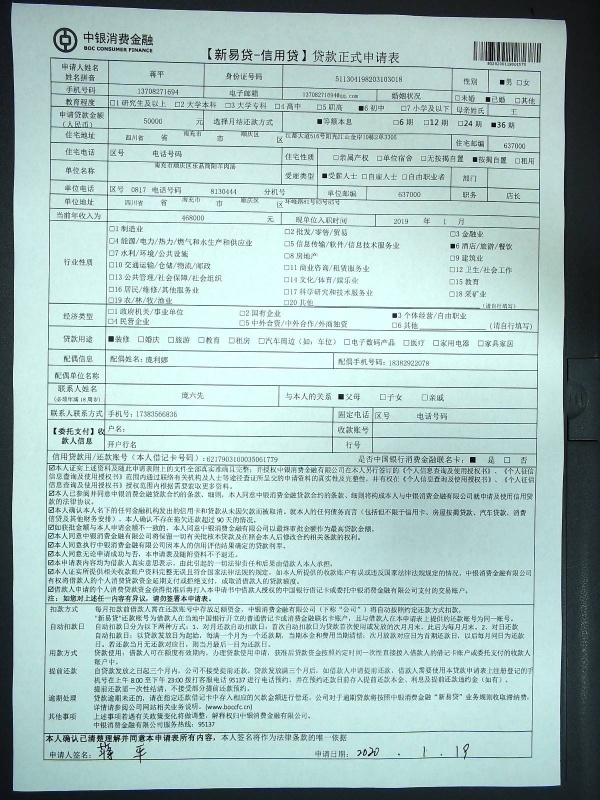text: (369, 740, 384, 762), (385, 740, 400, 762), (401, 740, 416, 762), (417, 740, 432, 762), (433, 740, 448, 762), (449, 740, 464, 762), (209, 46, 224, 66), (225, 46, 240, 66), (241, 46, 256, 66), (257, 46, 272, 66), (273, 46, 288, 66), (289, 46, 304, 66), (305, 46, 320, 66), (321, 46, 336, 66), (337, 46, 352, 66), (353, 46, 368, 66), (369, 46, 384, 66), (385, 46, 400, 66), (97, 743, 112, 763), (113, 743, 128, 763), (129, 743, 144, 763), (356, 740, 368, 762), (97, 31, 112, 48), (113, 31, 128, 48), (129, 31, 144, 48), (337, 152, 352, 168), (353, 152, 368, 168), (369, 152, 384, 168), (385, 152, 400, 168), (401, 152, 416, 168), (417, 152, 432, 168), (433, 152, 448, 168), (449, 152, 464, 168), (465, 152, 480, 168), (481, 152, 496, 168), (497, 152, 512, 168), (513, 152, 528, 168), (113, 334, 128, 350), (129, 334, 144, 350), (145, 334, 160, 350), (161, 334, 176, 350), (177, 334, 192, 350), (193, 334, 208, 350), (209, 334, 224, 350), (225, 334, 240, 350), (241, 334, 256, 350), (257, 334, 272, 350), (273, 334, 288, 350), (289, 334, 304, 350), (305, 334, 320, 350), (321, 334, 336, 350), (337, 334, 352, 350), (353, 334, 368, 350), (369, 334, 384, 350), (385, 334, 400, 350), (401, 334, 416, 350), (417, 334, 432, 350), (433, 334, 448, 350), (449, 334, 464, 350), (465, 334, 480, 350), (481, 334, 496, 350), (497, 334, 512, 350), (113, 99, 128, 114), (129, 99, 144, 114), (145, 99, 160, 114), (161, 99, 176, 114), (177, 99, 192, 114), (193, 99, 208, 114), (209, 99, 224, 114), (225, 99, 240, 114), (241, 99, 256, 114), (257, 99, 272, 114), (273, 99, 288, 114), (289, 99, 304, 114), (305, 99, 320, 114), (321, 99, 336, 114), (337, 99, 352, 114), (353, 99, 368, 114), (369, 99, 384, 114), (385, 99, 400, 114), (401, 99, 416, 114), (417, 99, 432, 114), (433, 99, 448, 114), (401, 116, 416, 131), (417, 116, 432, 131), (433, 116, 448, 131), (449, 116, 464, 131), (465, 116, 480, 131), (481, 116, 496, 131), (497, 116, 512, 131), (289, 237, 304, 252), (305, 237, 320, 252), (321, 237, 336, 252), (337, 237, 352, 252), (353, 237, 368, 252), (369, 237, 384, 252), (385, 237, 400, 252), (83, 31, 96, 48), (145, 31, 158, 48), (113, 272, 128, 286), (129, 272, 144, 286), (145, 272, 160, 286), (161, 272, 176, 286), (177, 272, 192, 286), (193, 272, 208, 286), (209, 272, 224, 286), (65, 382, 80, 396), (81, 382, 96, 396), (289, 391, 304, 405), (305, 391, 320, 405), (321, 391, 336, 405), (337, 391, 352, 405), (353, 391, 368, 405), (369, 391, 384, 405), (385, 391, 400, 405), (401, 391, 416, 405), (417, 391, 432, 405), (433, 391, 448, 405), (65, 452, 80, 466), (81, 452, 96, 466), (97, 452, 112, 466), (113, 452, 128, 466), (129, 452, 144, 466), (145, 452, 160, 466), (161, 452, 176, 466), (177, 452, 192, 466), (193, 452, 208, 466), (209, 452, 224, 466), (225, 452, 240, 466), (241, 452, 256, 466), (257, 452, 272, 466), (241, 237, 257, 250), (465, 740, 474, 762), (65, 71, 80, 84), (81, 71, 96, 84), (513, 76, 528, 89), (465, 93, 480, 106), (481, 93, 496, 106), (497, 93, 512, 106), (513, 93, 528, 106), (113, 184, 128, 197), (129, 184, 144, 197), (145, 184, 160, 197), (161, 184, 176, 197), (113, 237, 128, 250), (129, 237, 144, 250), (145, 237, 160, 250), (161, 237, 176, 250), (177, 237, 192, 250), (193, 237, 208, 250), (209, 237, 224, 250), (225, 237, 240, 250), (113, 284, 128, 297), (129, 284, 144, 297), (145, 284, 160, 297), (161, 284, 176, 297), (177, 284, 192, 297), (289, 262, 304, 275), (305, 262, 320, 275), (321, 262, 336, 275), (337, 262, 352, 275), (353, 262, 368, 275), (289, 274, 304, 287), (305, 274, 320, 287), (321, 274, 336, 287), (337, 274, 352, 287), (465, 228, 480, 241), (449, 287, 464, 300), (465, 287, 480, 300), (65, 370, 80, 383), (81, 370, 96, 383), (49, 489, 64, 502), (65, 489, 80, 502), (81, 489, 96, 502), (97, 489, 112, 502), (113, 489, 128, 502), (129, 489, 144, 502), (145, 489, 160, 502), (161, 489, 176, 502), (177, 489, 192, 502), (193, 489, 208, 502), (209, 489, 224, 502), (225, 489, 240, 502), (241, 489, 256, 502), (257, 489, 272, 502), (273, 489, 288, 502), (289, 489, 304, 502), (305, 489, 320, 502), (321, 489, 336, 502), (337, 489, 352, 502), (353, 489, 368, 502), (369, 489, 384, 502), (385, 489, 400, 502), (401, 489, 416, 502), (417, 489, 432, 502), (433, 489, 448, 502), (449, 489, 464, 502), (465, 489, 480, 502), (481, 489, 496, 502), (497, 489, 512, 502), (513, 489, 528, 502), (49, 505, 64, 518), (65, 505, 80, 518), (81, 505, 96, 518), (97, 505, 112, 518), (113, 505, 128, 518), (129, 505, 144, 518), (145, 505, 160, 518), (161, 505, 176, 518), (177, 505, 192, 518), (193, 505, 208, 518), (209, 505, 224, 518), (225, 505, 240, 518), (241, 505, 256, 518), (257, 505, 272, 518), (273, 505, 288, 518), (289, 505, 304, 518), (305, 505, 320, 518), (321, 505, 336, 518), (337, 505, 352, 518), (353, 505, 368, 518), (369, 505, 384, 518), (385, 505, 400, 518), (401, 505, 416, 518), (417, 505, 432, 518), (433, 505, 448, 518), (449, 505, 464, 518), (465, 505, 480, 518), (481, 505, 496, 518), (497, 505, 512, 518), (513, 505, 528, 518), (65, 621, 80, 634), (49, 693, 64, 706), (65, 693, 80, 706), (49, 711, 64, 724), (65, 711, 80, 724), (321, 749, 336, 762), (337, 749, 352, 762), (81, 256, 97, 268), (417, 357, 433, 369), (450, 228, 464, 241), (97, 44, 112, 56), (113, 44, 128, 56), (129, 44, 144, 56), (65, 62, 80, 74), (81, 62, 96, 74), (241, 88, 256, 100), (129, 132, 144, 144), (465, 138, 480, 150), (513, 141, 528, 153), (65, 147, 80, 159), (81, 147, 96, 159), (65, 165, 80, 177), (81, 165, 96, 177), (337, 188, 352, 200), (65, 256, 80, 268), (113, 248, 128, 260), (129, 248, 144, 260), (145, 248, 160, 260), (161, 248, 176, 260), (177, 248, 192, 260), (289, 287, 304, 299), (305, 287, 320, 299), (321, 287, 336, 299), (337, 287, 352, 299), (353, 287, 368, 299), (449, 253, 464, 265), (465, 253, 480, 265), (449, 276, 464, 288), (465, 276, 480, 288), (65, 312, 80, 324), (81, 312, 96, 324), (241, 319, 256, 331), (257, 319, 272, 331), (273, 319, 288, 331), (289, 319, 304, 331), (305, 319, 320, 331), (321, 319, 336, 331), (401, 320, 416, 332), (497, 321, 512, 333), (513, 321, 528, 333), (113, 354, 128, 366), (129, 354, 144, 366), (145, 354, 160, 366), (353, 357, 368, 369), (369, 357, 384, 369), (385, 357, 400, 369), (401, 357, 416, 369), (65, 408, 80, 420), (81, 408, 96, 420), (97, 408, 112, 420), (113, 408, 128, 420), (129, 408, 144, 420), (145, 408, 160, 420), (161, 408, 176, 420), (353, 410, 368, 422), (369, 410, 384, 422), (417, 411, 432, 423), (433, 411, 448, 423), (353, 425, 368, 437), (65, 425, 80, 437), (81, 425, 96, 437), (65, 436, 80, 448), (81, 436, 96, 448), (113, 438, 128, 450), (369, 454, 384, 466), (385, 454, 400, 466), (401, 454, 416, 466), (417, 454, 432, 466), (433, 454, 448, 466), (449, 454, 464, 466), (465, 454, 480, 466), (481, 454, 496, 466), (497, 454, 512, 466), (513, 454, 528, 466), (49, 463, 64, 475), (65, 463, 80, 475), (81, 463, 96, 475), (97, 463, 112, 475), (113, 463, 128, 475), (129, 463, 144, 475), (145, 463, 160, 475), (161, 463, 176, 475), (177, 463, 192, 475), (193, 463, 208, 475), (209, 463, 224, 475), (225, 463, 240, 475), (241, 463, 256, 475), (257, 463, 272, 475), (273, 463, 288, 475), (289, 463, 304, 475), (305, 463, 320, 475), (321, 463, 336, 475), (337, 463, 352, 475), (353, 463, 368, 475), (369, 463, 384, 475), (385, 463, 400, 475), (401, 463, 416, 475), (417, 463, 432, 475), (433, 463, 448, 475), (449, 463, 464, 475), (465, 463, 480, 475), (481, 463, 496, 475), (497, 463, 512, 475), (513, 463, 528, 475), (49, 473, 64, 485), (65, 473, 80, 485), (81, 473, 96, 485), (97, 473, 112, 485), (113, 473, 128, 485), (129, 473, 144, 485), (145, 473, 160, 485), (161, 473, 176, 485), (177, 473, 192, 485), (193, 473, 208, 485), (209, 473, 224, 485), (225, 473, 240, 485), (241, 473, 256, 485), (257, 473, 272, 485), (273, 473, 288, 485), (289, 473, 304, 485), (305, 473, 320, 485), (321, 473, 336, 485), (337, 473, 352, 485), (353, 473, 368, 485), (369, 473, 384, 485), (385, 473, 400, 485), (401, 473, 416, 485), (417, 473, 432, 485), (433, 473, 448, 485), (449, 473, 464, 485), (465, 473, 480, 485), (481, 473, 496, 485), (497, 473, 512, 485), (513, 473, 528, 485), (49, 531, 64, 543), (65, 531, 80, 543), (81, 531, 96, 543), (97, 531, 112, 543), (113, 531, 128, 543), (129, 531, 144, 543), (145, 531, 160, 543), (161, 531, 176, 543), (177, 531, 192, 543), (193, 531, 208, 543), (209, 531, 224, 543), (225, 531, 240, 543), (241, 531, 256, 543), (257, 531, 272, 543), (273, 531, 288, 543), (289, 531, 304, 543), (305, 531, 320, 543), (321, 531, 336, 543), (337, 531, 352, 543), (49, 567, 64, 579), (65, 567, 80, 579), (81, 567, 96, 579), (97, 567, 112, 579), (113, 567, 128, 579), (129, 567, 144, 579), (145, 567, 160, 579), (161, 567, 176, 579), (177, 567, 192, 579), (193, 567, 208, 579), (209, 567, 224, 579), (225, 567, 240, 579), (241, 567, 256, 579), (257, 567, 272, 579), (273, 567, 288, 579), (289, 567, 304, 579), (305, 567, 320, 579), (321, 567, 336, 579), (337, 567, 352, 579), (353, 567, 368, 579), (369, 567, 384, 579), (385, 567, 400, 579), (401, 567, 416, 579), (417, 567, 432, 579), (433, 567, 448, 579), (449, 567, 464, 579), (465, 567, 480, 579), (481, 567, 496, 579), (497, 567, 512, 579), (513, 567, 528, 579), (49, 594, 64, 606), (65, 594, 80, 606), (81, 594, 96, 606), (97, 594, 112, 606), (113, 594, 128, 606), (129, 594, 144, 606), (145, 594, 160, 606), (161, 594, 176, 606), (177, 594, 192, 606), (193, 594, 208, 606), (49, 750, 64, 762), (65, 750, 80, 762), (385, 131, 401, 142), (433, 171, 449, 182), (81, 197, 97, 208), (81, 354, 97, 365), (289, 576, 305, 587), (65, 666, 81, 677), (499, 76, 512, 89), (51, 621, 64, 634), (113, 147, 127, 159), (337, 319, 351, 331), (338, 425, 352, 437), (52, 452, 64, 466), (353, 531, 367, 543), (241, 71, 256, 82), (337, 74, 352, 85), (353, 74, 368, 85), (369, 74, 384, 85), (385, 74, 400, 85), (65, 84, 80, 95), (81, 84, 96, 95), (145, 87, 160, 98), (161, 87, 176, 98), (401, 91, 416, 102), (65, 98, 80, 109), (81, 98, 96, 109), (65, 119, 80, 130), (81, 119, 96, 130), (225, 117, 240, 128), (241, 117, 256, 128), (257, 117, 272, 128), (321, 117, 336, 128), (337, 117, 352, 128), (65, 130, 80, 141), (81, 130, 96, 141), (289, 131, 304, 142), (305, 131, 320, 142), (321, 131, 336, 142), (337, 131, 352, 142), (353, 131, 368, 142), (369, 131, 384, 142), (161, 161, 176, 172), (177, 161, 192, 172), (193, 161, 208, 172), (209, 161, 224, 172), (225, 161, 240, 172), (289, 171, 304, 182), (305, 171, 320, 182), (321, 171, 336, 182), (337, 171, 352, 182), (353, 171, 368, 182), (369, 171, 384, 182), (385, 171, 400, 182), (401, 171, 416, 182), (417, 171, 432, 182), (465, 173, 480, 184), (65, 183, 80, 194), (81, 183, 96, 194), (209, 187, 224, 198), (225, 187, 240, 198), (465, 190, 480, 201), (65, 197, 80, 208), (193, 214, 208, 225), (305, 215, 320, 226), (321, 215, 336, 226), (401, 217, 416, 228), (417, 217, 432, 228), (433, 217, 448, 228), (449, 217, 464, 228), (113, 261, 128, 272), (129, 261, 144, 272), (145, 261, 160, 272), (161, 261, 176, 272), (177, 261, 192, 272), (193, 261, 208, 272), (113, 295, 128, 306), (129, 295, 144, 306), (145, 295, 160, 306), (161, 295, 176, 306), (289, 226, 304, 237), (305, 226, 320, 237), (321, 226, 336, 237), (337, 226, 352, 237), (289, 251, 304, 262), (305, 251, 320, 262), (449, 242, 464, 253), (465, 242, 480, 253), (481, 242, 496, 253), (497, 242, 512, 253), (449, 265, 464, 276), (465, 265, 480, 276), (481, 265, 496, 276), (497, 265, 512, 276), (113, 308, 128, 319), (129, 308, 144, 319), (145, 308, 160, 319), (161, 308, 176, 319), (241, 308, 256, 319), (257, 308, 272, 319), (65, 333, 80, 344), (81, 333, 96, 344), (65, 354, 80, 365), (65, 394, 80, 405), (81, 394, 96, 405), (113, 423, 128, 434), (49, 514, 64, 525), (65, 514, 80, 525), (81, 514, 96, 525), (97, 514, 112, 525), (113, 514, 128, 525), (129, 514, 144, 525), (145, 514, 160, 525), (161, 514, 176, 525), (177, 514, 192, 525), (193, 514, 208, 525), (209, 514, 224, 525), (225, 514, 240, 525), (241, 514, 256, 525), (49, 523, 64, 534), (65, 523, 80, 534), (81, 523, 96, 534), (97, 523, 112, 534), (113, 523, 128, 534), (129, 523, 144, 534), (145, 523, 160, 534), (161, 523, 176, 534), (177, 523, 192, 534), (193, 523, 208, 534), (209, 523, 224, 534), (225, 523, 240, 534), (241, 523, 256, 534), (257, 523, 272, 534), (273, 523, 288, 534), (289, 523, 304, 534), (305, 523, 320, 534), (321, 523, 336, 534), (337, 523, 352, 534), (353, 523, 368, 534), (49, 540, 64, 551), (65, 540, 80, 551), (81, 540, 96, 551), (97, 540, 112, 551), (113, 540, 128, 551), (129, 540, 144, 551), (145, 540, 160, 551), (161, 540, 176, 551), (177, 540, 192, 551), (193, 540, 208, 551), (209, 540, 224, 551), (225, 540, 240, 551), (241, 540, 256, 551), (257, 540, 272, 551), (273, 540, 288, 551), (49, 558, 64, 569), (65, 558, 80, 569), (81, 558, 96, 569), (97, 558, 112, 569), (113, 558, 128, 569), (129, 558, 144, 569), (145, 558, 160, 569), (161, 558, 176, 569), (177, 558, 192, 569), (193, 558, 208, 569), (209, 558, 224, 569), (225, 558, 240, 569), (241, 558, 256, 569), (257, 558, 272, 569), (273, 558, 288, 569), (289, 558, 304, 569), (305, 558, 320, 569), (321, 558, 336, 569), (49, 576, 64, 587), (65, 576, 80, 587), (81, 576, 96, 587), (97, 576, 112, 587), (113, 576, 128, 587), (129, 576, 144, 587), (145, 576, 160, 587), (161, 576, 176, 587), (177, 576, 192, 587), (193, 576, 208, 587), (209, 576, 224, 587), (225, 576, 240, 587), (241, 576, 256, 587), (257, 576, 272, 587), (273, 576, 288, 587), (49, 585, 64, 596), (65, 585, 80, 596), (81, 585, 96, 596), (97, 585, 112, 596), (113, 585, 128, 596), (129, 585, 144, 596), (145, 585, 160, 596), (161, 585, 176, 596), (177, 585, 192, 596), (193, 585, 208, 596), (209, 585, 224, 596), (225, 585, 240, 596), (241, 585, 256, 596), (257, 585, 272, 596), (273, 585, 288, 596), (289, 585, 304, 596), (305, 585, 320, 596), (321, 585, 336, 596), (337, 585, 352, 596), (353, 585, 368, 596), (369, 585, 384, 596), (385, 585, 400, 596), (401, 585, 416, 596), (417, 585, 432, 596), (433, 585, 448, 596), (449, 585, 464, 596), (65, 648, 80, 659), (49, 666, 64, 677), (97, 605, 112, 616), (113, 605, 128, 616), (129, 605, 144, 616), (145, 605, 160, 616), (161, 605, 176, 616), (177, 605, 192, 616), (193, 605, 208, 616), (209, 605, 224, 616), (225, 605, 240, 616), (241, 605, 256, 616), (257, 605, 272, 616), (273, 605, 288, 616), (289, 605, 304, 616), (305, 605, 320, 616), (321, 605, 336, 616), (337, 605, 352, 616), (353, 605, 368, 616), (369, 605, 384, 616), (385, 605, 400, 616), (401, 605, 416, 616), (417, 605, 432, 616), (433, 605, 448, 616), (449, 605, 464, 616), (97, 613, 112, 624), (113, 613, 128, 624), (129, 613, 144, 624), (145, 613, 160, 624), (161, 613, 176, 624), (177, 613, 192, 624), (193, 613, 208, 624), (209, 613, 224, 624), (225, 613, 240, 624), (241, 613, 256, 624), (257, 613, 272, 624), (273, 613, 288, 624), (289, 613, 304, 624), (305, 613, 320, 624), (321, 613, 336, 624), (337, 613, 352, 624), (353, 613, 368, 624), (369, 613, 384, 624), (385, 613, 400, 624), (401, 613, 416, 624), (417, 613, 432, 624), (433, 613, 448, 624), (449, 613, 464, 624), (465, 613, 480, 624), (481, 613, 496, 624), (497, 613, 512, 624), (97, 657, 112, 668), (97, 702, 112, 713), (113, 702, 128, 713), (129, 702, 144, 713), (145, 702, 160, 713), (161, 702, 176, 713), (177, 702, 192, 713), (193, 702, 208, 713), (209, 702, 224, 713), (225, 702, 240, 713), (241, 702, 256, 713), (97, 711, 112, 722), (113, 711, 128, 722), (129, 711, 144, 722), (145, 711, 160, 722), (161, 711, 176, 722), (177, 711, 192, 722), (193, 711, 208, 722), (209, 711, 224, 722), (225, 711, 240, 722), (241, 711, 256, 722), (257, 711, 272, 722), (273, 711, 288, 722), (289, 711, 304, 722), (97, 720, 112, 731), (113, 720, 128, 731), (129, 720, 144, 731), (145, 720, 160, 731), (161, 720, 176, 731), (177, 720, 192, 731), (193, 720, 208, 731), (49, 733, 64, 744), (65, 733, 80, 744), (81, 733, 96, 744), (97, 733, 112, 744), (113, 733, 128, 744), (129, 733, 144, 744), (145, 733, 160, 744), (161, 733, 176, 744), (177, 733, 192, 744), (193, 733, 208, 744), (209, 733, 224, 744), (225, 733, 240, 744), (241, 733, 256, 744), (257, 733, 272, 744), (273, 733, 288, 744), (289, 733, 304, 744), (305, 733, 320, 744), (321, 733, 336, 744), (465, 77, 481, 87), (529, 152, 539, 168), (273, 187, 289, 197), (513, 631, 529, 641), (83, 44, 96, 56), (145, 44, 158, 56), (353, 274, 365, 287), (339, 357, 352, 369), (51, 408, 64, 420), (339, 410, 352, 422), (337, 215, 351, 226), (193, 390, 207, 401), (50, 648, 64, 659), (337, 733, 351, 744), (497, 59, 512, 69), (513, 59, 528, 69), (305, 90, 320, 100), (321, 90, 336, 100), (337, 90, 352, 100), (65, 110, 80, 120), (81, 110, 96, 120), (161, 149, 176, 159), (289, 152, 304, 162), (129, 199, 144, 209), (241, 196, 256, 206), (289, 197, 304, 207), (305, 197, 320, 207), (321, 197, 336, 207), (65, 211, 80, 221), (81, 211, 96, 221), (113, 224, 128, 234), (129, 224, 144, 234), (289, 298, 304, 308), (497, 300, 512, 310), (49, 481, 64, 491), (65, 481, 80, 491), (81, 481, 96, 491), (97, 481, 112, 491), (113, 481, 128, 491), (129, 481, 144, 491), (145, 481, 160, 491), (161, 481, 176, 491), (177, 481, 192, 491), (193, 481, 208, 491), (209, 481, 224, 491), (49, 496, 64, 506), (65, 496, 80, 506), (81, 496, 96, 506), (49, 550, 64, 560), (65, 550, 80, 560), (81, 550, 96, 560), (97, 550, 112, 560), (113, 550, 128, 560), (129, 550, 144, 560), (145, 550, 160, 560), (161, 550, 176, 560), (177, 550, 192, 560), (193, 550, 208, 560), (209, 550, 224, 560), (225, 550, 240, 560), (97, 631, 112, 641), (113, 631, 128, 641), (129, 631, 144, 641), (145, 631, 160, 641), (161, 631, 176, 641), (177, 631, 192, 641), (193, 631, 208, 641), (209, 631, 224, 641), (225, 631, 240, 641), (241, 631, 256, 641), (257, 631, 272, 641), (273, 631, 288, 641), (289, 631, 304, 641), (305, 631, 320, 641), (321, 631, 336, 641), (337, 631, 352, 641), (353, 631, 368, 641), (369, 631, 384, 641), (385, 631, 400, 641), (401, 631, 416, 641), (417, 631, 432, 641), (433, 631, 448, 641), (449, 631, 464, 641), (465, 631, 480, 641), (481, 631, 496, 641), (497, 631, 512, 641), (97, 640, 112, 650), (113, 640, 128, 650), (129, 640, 144, 650), (145, 640, 160, 650), (161, 640, 176, 650), (177, 640, 192, 650), (193, 640, 208, 650), (209, 640, 224, 650), (225, 640, 240, 650), (241, 640, 256, 650), (257, 640, 272, 650), (97, 666, 112, 676), (113, 666, 128, 676), (129, 666, 144, 676), (145, 666, 160, 676), (161, 666, 176, 676), (177, 666, 192, 676), (193, 666, 208, 676), (209, 666, 224, 676), (225, 666, 240, 676), (241, 666, 256, 676), (257, 666, 272, 676), (273, 666, 288, 676), (289, 666, 304, 676), (305, 666, 320, 676), (321, 666, 336, 676), (337, 666, 352, 676), (353, 666, 368, 676), (369, 666, 384, 676), (385, 666, 400, 676), (401, 666, 416, 676), (417, 666, 432, 676), (433, 666, 448, 676), (449, 666, 464, 676), (465, 666, 480, 676), (481, 666, 496, 676), (497, 666, 512, 676), (513, 666, 528, 676), (97, 684, 112, 694), (113, 684, 128, 694), (129, 684, 144, 694), (145, 684, 160, 694), (161, 684, 176, 694), (177, 684, 192, 694), (193, 684, 208, 694), (209, 684, 224, 694), (225, 684, 240, 694), (241, 684, 256, 694), (97, 693, 112, 703), (113, 693, 128, 703), (129, 693, 144, 703), (145, 693, 160, 703), (161, 693, 176, 703), (177, 693, 192, 703), (193, 693, 208, 703), (209, 693, 224, 703), (225, 693, 240, 703), (241, 693, 256, 703), (257, 693, 272, 703), (273, 693, 288, 703), (289, 693, 304, 703), (305, 693, 320, 703), (321, 693, 336, 703), (337, 693, 352, 703), (353, 693, 368, 703), (369, 693, 384, 703), (385, 693, 400, 703), (401, 693, 416, 703), (417, 693, 432, 703), (433, 693, 448, 703), (449, 693, 464, 703), (465, 693, 480, 703), (481, 693, 496, 703), (497, 693, 512, 703), (513, 693, 528, 703), (228, 88, 240, 100), (52, 425, 64, 437), (81, 750, 93, 762), (227, 71, 240, 82), (193, 284, 204, 297), (273, 308, 286, 319), (482, 300, 496, 310), (465, 106, 480, 115), (145, 117, 160, 126), (241, 130, 256, 139), (401, 191, 416, 200), (113, 317, 128, 326), (129, 317, 144, 326), (401, 312, 416, 321), (417, 312, 432, 321), (433, 312, 448, 321), (449, 312, 464, 321), (65, 606, 80, 615), (97, 623, 112, 632), (113, 623, 128, 632), (129, 623, 144, 632), (145, 623, 160, 632), (161, 623, 176, 632), (177, 623, 192, 632), (193, 623, 208, 632), (209, 623, 224, 632), (225, 623, 240, 632), (241, 623, 256, 632), (257, 623, 272, 632), (273, 623, 288, 632), (289, 623, 304, 632), (305, 623, 320, 632), (321, 623, 336, 632), (337, 623, 352, 632), (353, 623, 368, 632), (369, 623, 384, 632), (385, 623, 400, 632), (401, 623, 416, 632), (417, 623, 432, 632), (433, 623, 448, 632), (449, 623, 464, 632), (465, 623, 480, 632), (481, 623, 496, 632), (497, 623, 512, 632), (97, 649, 112, 658), (113, 649, 128, 658), (129, 649, 144, 658), (145, 649, 160, 658), (161, 649, 176, 658), (177, 649, 192, 658), (193, 649, 208, 658), (209, 649, 224, 658), (225, 649, 240, 658), (241, 649, 256, 658), (257, 649, 272, 658), (273, 649, 288, 658), (289, 649, 304, 658), (305, 649, 320, 658), (321, 649, 336, 658), (337, 649, 352, 658), (353, 649, 368, 658), (369, 649, 384, 658), (385, 649, 400, 658), (401, 649, 416, 658), (417, 649, 432, 658), (433, 649, 448, 658), (449, 649, 464, 658), (465, 649, 480, 658), (481, 649, 496, 658), (497, 649, 512, 658), (513, 649, 528, 658), (97, 676, 112, 685), (113, 676, 128, 685), (129, 676, 144, 685), (145, 676, 160, 685), (161, 676, 176, 685), (177, 676, 192, 685), (193, 676, 208, 685), (209, 676, 224, 685), (225, 676, 240, 685), (241, 676, 256, 685), (257, 676, 272, 685), (273, 676, 288, 685), (289, 676, 304, 685), (305, 676, 320, 685), (321, 676, 336, 685), (337, 676, 352, 685), (353, 676, 368, 685), (369, 676, 384, 685), (385, 676, 400, 685), (401, 676, 416, 685), (417, 676, 432, 685), (433, 676, 448, 685), (449, 676, 464, 685), (465, 676, 480, 685), (481, 676, 496, 685), (497, 676, 512, 685), (148, 69, 160, 80), (180, 390, 192, 401), (97, 425, 108, 437), (357, 454, 368, 466), (305, 711, 317, 722), (177, 184, 187, 197), (305, 298, 318, 308), (54, 370, 64, 383), (225, 481, 238, 491), (194, 117, 208, 126), (273, 452, 282, 466), (50, 606, 64, 615), (213, 117, 224, 128), (161, 132, 172, 143), (193, 129, 205, 139), (276, 135, 288, 145), (390, 320, 400, 332), (161, 354, 171, 366), (129, 438, 139, 450), (455, 93, 464, 106), (481, 287, 490, 300), (513, 623, 526, 632), (257, 71, 267, 82), (305, 152, 316, 162), (513, 191, 524, 201), (193, 195, 204, 205), (277, 200, 288, 210), (182, 214, 192, 225), (54, 394, 64, 405), (113, 657, 123, 668), (209, 720, 219, 731), (455, 138, 464, 150), (503, 141, 512, 153), (327, 188, 336, 200), (369, 287, 378, 299), (529, 473, 538, 485), (393, 116, 400, 131), (513, 116, 520, 131), (529, 93, 537, 106), (486, 59, 496, 69), (97, 110, 107, 120), (161, 198, 171, 208), (353, 441, 363, 451), (145, 743, 150, 763), (391, 91, 400, 102), (295, 215, 304, 226), (177, 308, 186, 319), (369, 523, 378, 534), (353, 188, 361, 200), (481, 253, 489, 265), (385, 410, 393, 422), (529, 463, 537, 475), (209, 594, 217, 606), (369, 262, 376, 275), (183, 129, 192, 139), (215, 134, 224, 144), (177, 149, 186, 159), (183, 195, 192, 205), (417, 91, 425, 102), (513, 107, 521, 118), (489, 321, 496, 333), (58, 382, 64, 396), (215, 199, 224, 208), (145, 317, 154, 326), (391, 312, 400, 321), (152, 149, 160, 159), (264, 187, 272, 197), (504, 191, 512, 201), (56, 211, 64, 221), (106, 284, 112, 297), (282, 274, 288, 287), (481, 228, 487, 241), (97, 370, 103, 383), (529, 489, 535, 502), (81, 621, 87, 634), (314, 749, 320, 762), (161, 69, 168, 80), (393, 217, 400, 228), (209, 261, 216, 272), (105, 295, 112, 306), (283, 237, 288, 252), (97, 62, 103, 74), (257, 88, 263, 100), (456, 106, 464, 115), (481, 138, 487, 150), (417, 191, 425, 200), (282, 287, 288, 299), (529, 321, 535, 333), (529, 567, 535, 579), (353, 90, 360, 100), (107, 272, 112, 286), (281, 298, 288, 308), (345, 441, 352, 451), (401, 74, 407, 85), (138, 87, 144, 98), (177, 87, 183, 98), (314, 117, 320, 128), (154, 161, 160, 172), (513, 242, 519, 253), (465, 585, 471, 596), (283, 262, 288, 275), (108, 334, 112, 350), (513, 334, 517, 350), (265, 216, 272, 225), (401, 46, 404, 66), (257, 196, 263, 206), (97, 211, 103, 221), (107, 248, 112, 260), (513, 300, 519, 310), (177, 408, 182, 420), (97, 382, 101, 396), (465, 217, 470, 228), (283, 226, 288, 237), (283, 251, 288, 262), (97, 394, 102, 405), (107, 423, 112, 434), (513, 613, 518, 624), (481, 106, 487, 115), (257, 130, 263, 139), (465, 312, 471, 321), (59, 110, 64, 120), (337, 197, 342, 207), (273, 640, 278, 650), (529, 666, 534, 676), (60, 62, 64, 74), (124, 132, 128, 144), (333, 152, 336, 168), (417, 320, 421, 332), (60, 436, 64, 448), (108, 438, 112, 450), (529, 454, 533, 466), (449, 99, 452, 114), (161, 117, 166, 126), (107, 317, 112, 326), (529, 649, 534, 658), (273, 117, 277, 128), (353, 117, 357, 128), (284, 131, 288, 142), (284, 171, 288, 182), (108, 261, 112, 272), (177, 295, 181, 306), (513, 265, 517, 276), (108, 308, 112, 319), (257, 514, 261, 525), (257, 702, 261, 713), (285, 391, 288, 405), (206, 46, 208, 66), (284, 152, 288, 162), (124, 199, 128, 209), (97, 496, 101, 506), (529, 693, 533, 703), (529, 76, 532, 89), (109, 184, 112, 197), (109, 237, 112, 250), (109, 147, 112, 159), (273, 216, 277, 225), (481, 276, 484, 288), (109, 354, 112, 366), (369, 425, 372, 437), (97, 84, 100, 95), (509, 107, 512, 118), (97, 130, 100, 141), (461, 173, 464, 184), (461, 190, 464, 201), (321, 251, 324, 262), (289, 540, 292, 551), (93, 657, 96, 668), (93, 702, 96, 713), (93, 711, 96, 722), (93, 720, 96, 731), (110, 99, 112, 114), (109, 224, 112, 234), (401, 237, 403, 252), (241, 550, 244, 560), (93, 684, 96, 694), (93, 693, 96, 703), (225, 272, 227, 286), (93, 676, 96, 685), (529, 505, 531, 518), (97, 165, 99, 177), (193, 248, 195, 260), (446, 276, 448, 288), (238, 319, 240, 331), (449, 411, 451, 423), (46, 567, 48, 579), (46, 594, 48, 606), (334, 74, 336, 85), (97, 98, 99, 109), (62, 119, 64, 130), (46, 558, 48, 569), (46, 576, 48, 587), (46, 585, 48, 596), (46, 733, 48, 744), (302, 90, 304, 100), (225, 134, 227, 144), (286, 197, 288, 207), (46, 550, 48, 560), (94, 666, 96, 676), (398, 191, 400, 200), (449, 391, 450, 405), (97, 71, 98, 84), (47, 505, 48, 518), (47, 693, 48, 706), (47, 711, 48, 724), (81, 711, 82, 724), (145, 132, 146, 144), (529, 141, 530, 153), (97, 147, 98, 159), (63, 312, 64, 324), (97, 312, 98, 324), (47, 473, 48, 485), (47, 531, 48, 543), (159, 132, 160, 143), (97, 183, 98, 194), (63, 197, 64, 208), (447, 265, 448, 276), (239, 308, 240, 319), (63, 333, 64, 344), (47, 523, 48, 534), (47, 540, 48, 551), (337, 558, 338, 569), (95, 605, 96, 616), (465, 605, 466, 616), (529, 59, 530, 69), (463, 77, 464, 87), (145, 199, 146, 209), (239, 196, 240, 206), (145, 224, 146, 234), (47, 481, 48, 491), (95, 631, 96, 641), (257, 684, 258, 694), (143, 117, 144, 126), (239, 130, 240, 139), (95, 623, 96, 632), (95, 649, 96, 658)
